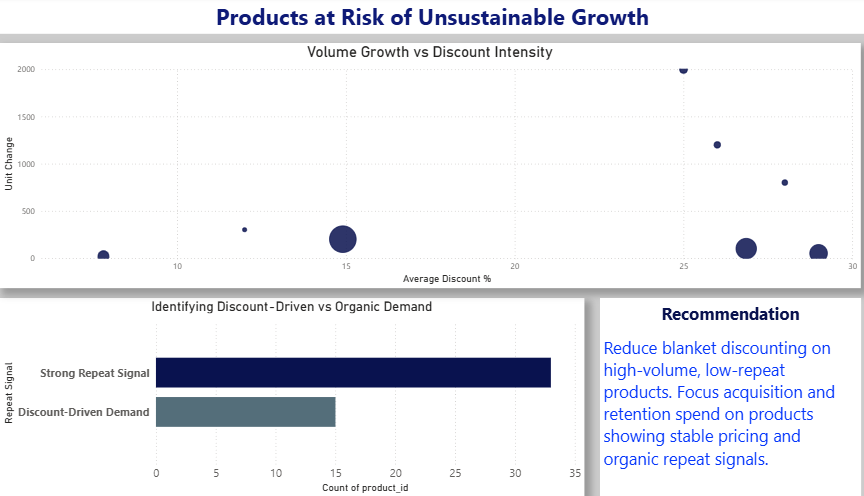

What the dashboard file says about the page in this screenshot:
{"tool":"powerbi","page":{"name":"Page 3","canvas":[1280,720],"ordinal":2},"visuals":[{"type":"textbox","box":[0,0,1280.2,53.3],"z":0},{"type":"clusteredBarChart","title":"Identifying Discount-Driven vs Organic Demand","fields":{"Y":["CountNonNull(product_sales.product_id)"],"Category":["product_sales.Repeat Signal"]},"box":[16,433.9,843.2,285.9],"z":1000},{"type":"scatterChart","title":"Volume Growth vs Discount Intensity","fields":{"X":["product_sales.Average Discount %"],"Y":["product_sales.Unit Change"],"Size":["product_sales.Total Units Sold"]},"box":[16,66.8,1240.8,352.7],"z":2000},{"type":"textbox","box":[880.9,433.9,375.9,285.9],"z":2001}]}

Visuals, with their boxes in screenshot pixels (x1, y1, x2, y2), scaled from the page's 1280x720 canvas onto the 864x496 screenshot:
textbox: rect(0, 0, 863, 37)
"Identifying Discount-Driven vs Organic Demand" clusteredBarChart: rect(11, 299, 580, 495)
"Volume Growth vs Discount Intensity" scatterChart: rect(11, 46, 848, 289)
textbox: rect(595, 299, 848, 495)
